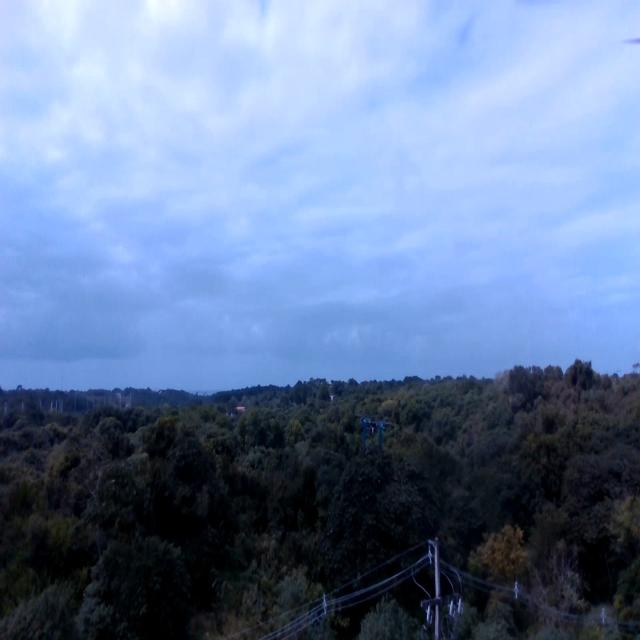-uav-: (357, 413, 390, 454)
